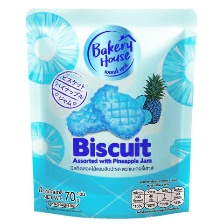snack: (17, 0, 203, 223)
